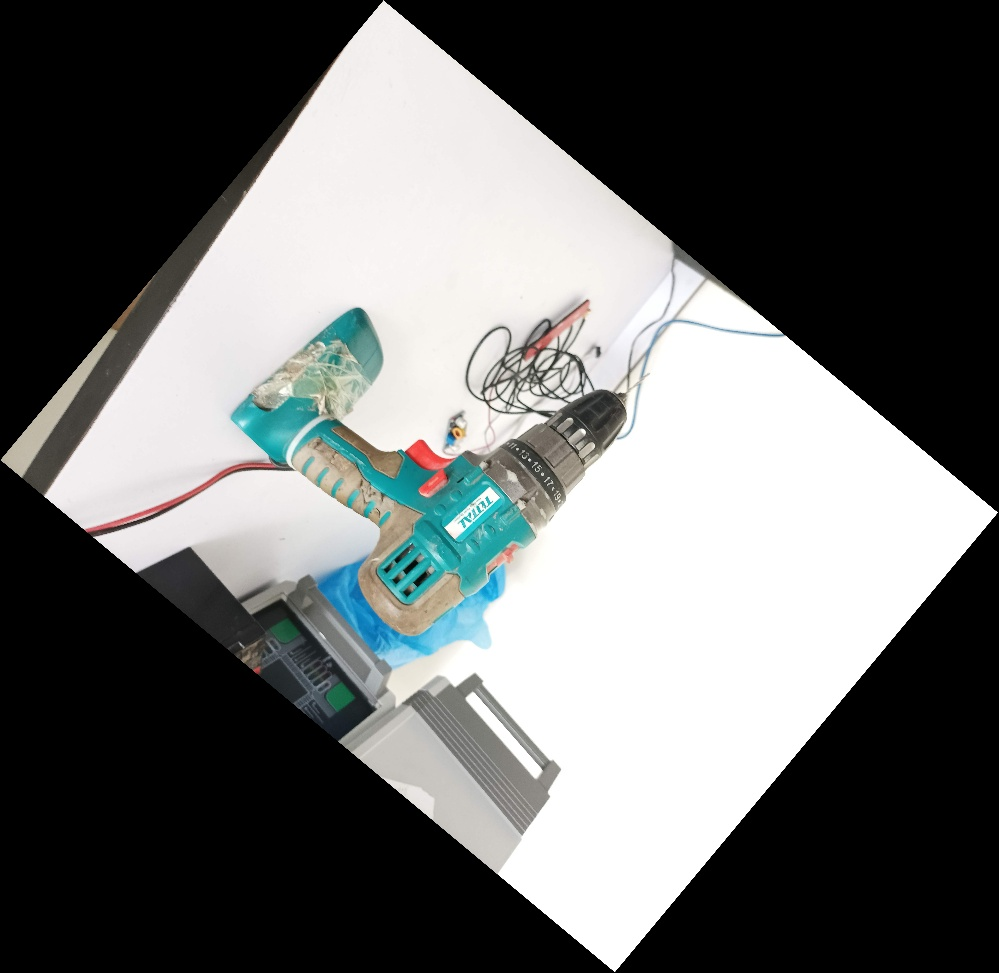driller: (237, 301, 654, 659)
